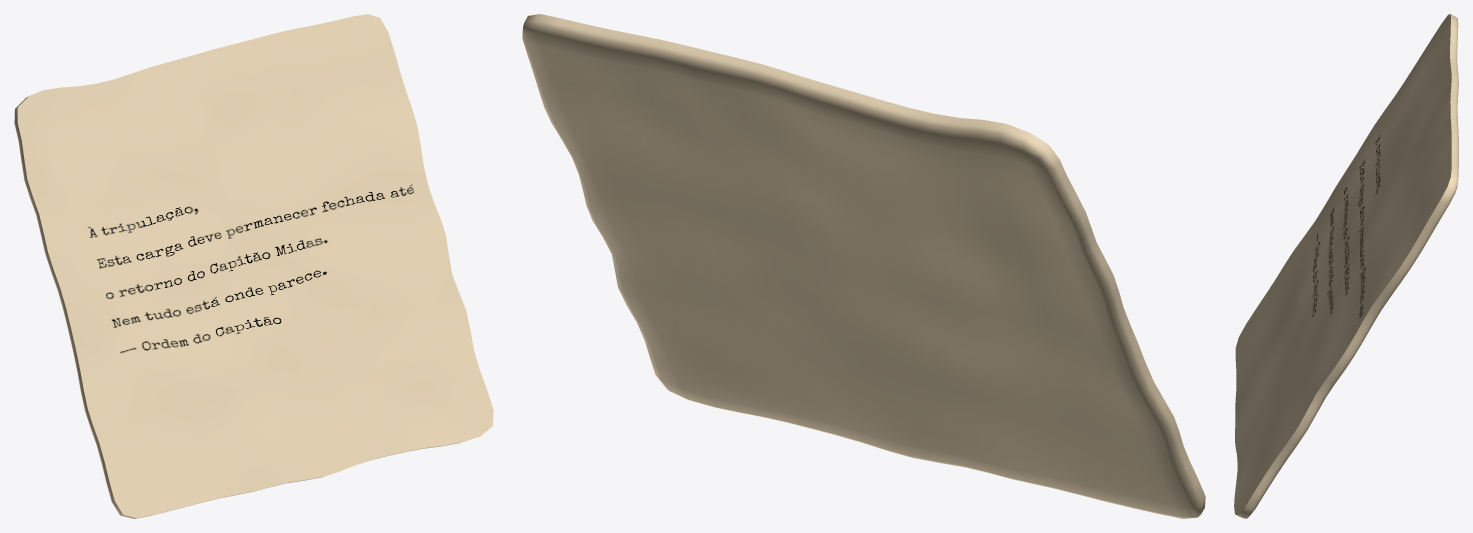
The model's file is bilhete.fbx.
3 renders of one model, left to right at view 1: azimuth 30°, elevation 25°; view 2: azimuth 150°, elevation 25°; view 3: azimuth 270°, elevation 25°, orthographic. The views are drawn at different scales.
Parts seen in each view (by area): view 1: Plane.001; view 2: Plane.001; view 3: Plane.001.
Part boxes in pixels (bbox=[...]): Plane.001: bbox=[14, 14, 493, 518]; Plane.001: bbox=[522, 14, 1205, 518]; Plane.001: bbox=[1234, 14, 1458, 518].
Size of the model in its own units: 9.99 by 8.8 by 5.2.
